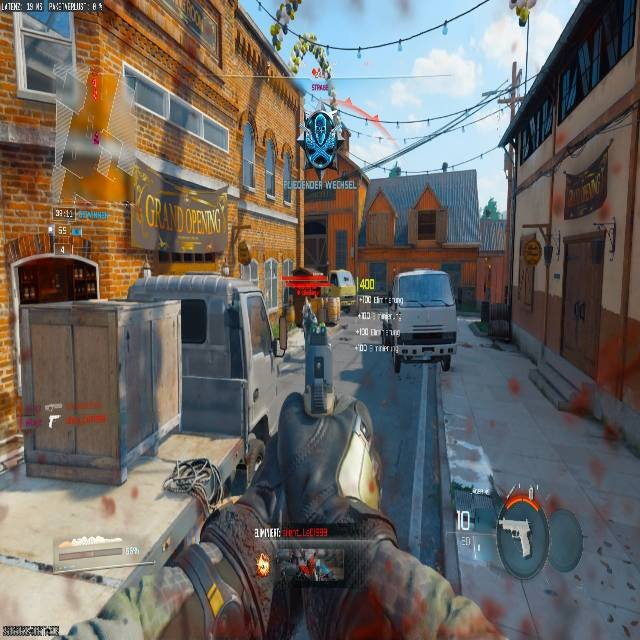player: (285, 297, 329, 399), (302, 106, 349, 174)
